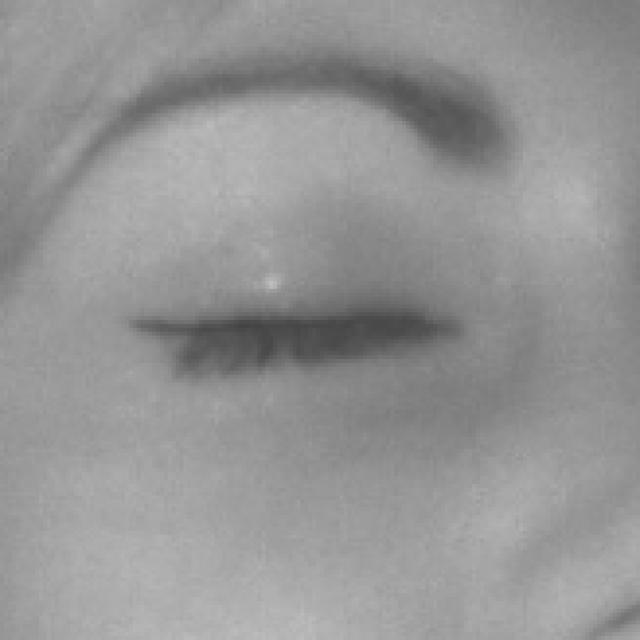Eyeclosed: (125, 200, 471, 472)
